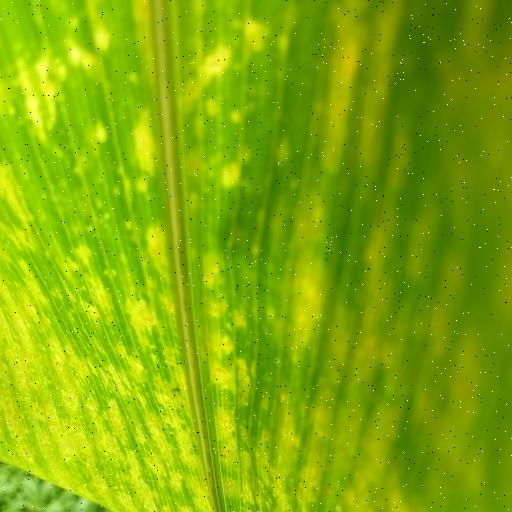Corn_Brown_Spots: (4, 2, 512, 512)
